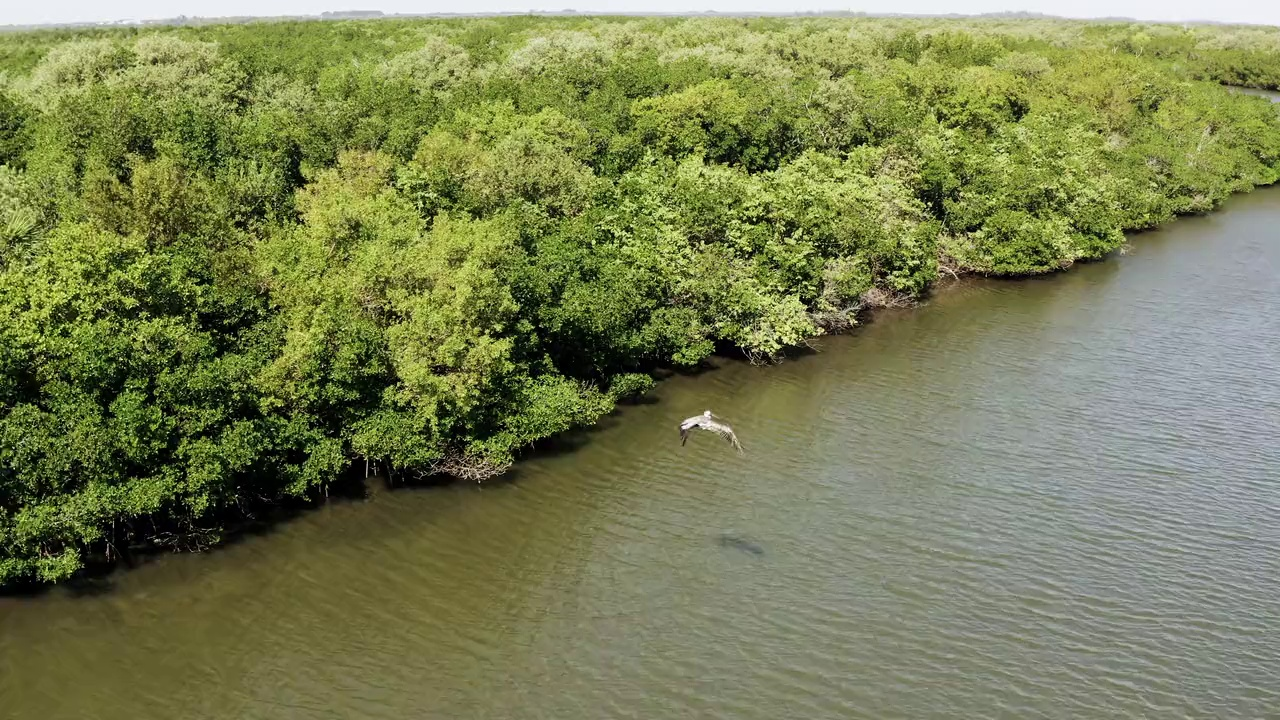bird: (678, 408, 742, 452)
